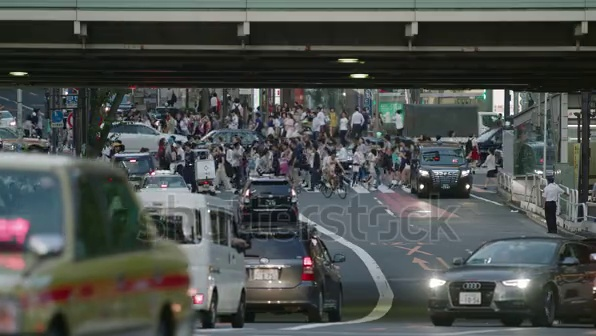licenseplate: (255, 269, 279, 282), (460, 294, 482, 307)
